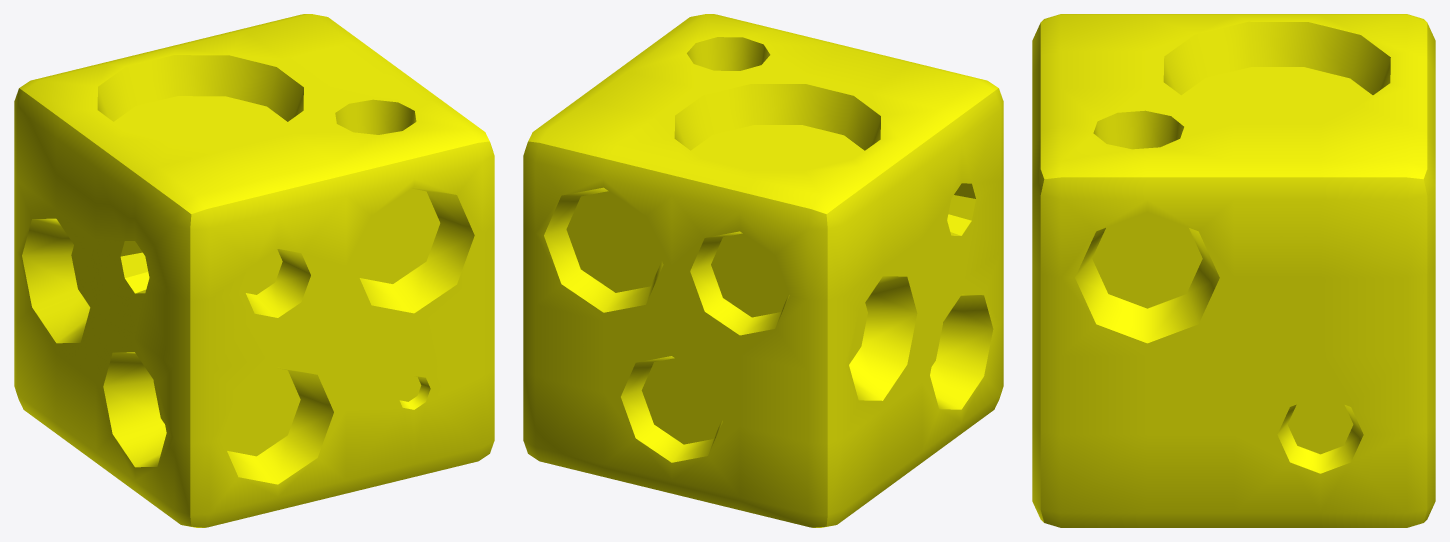
File: Block_Cheese.glb
3 views of the same model, side by side, from view 1: azimuth 30°, elevation 25°; view 2: azimuth 150°, elevation 25°; view 3: azimuth 270°, elevation 25° (orthographic). The views are drawn at different scales.
Visible parts, largest first — view 1: Block_Cheese; view 2: Block_Cheese; view 3: Block_Cheese.
Part boxes in pixels (box(x1,y1,x2,y2)): Block_Cheese: box(14, 14, 494, 527); Block_Cheese: box(523, 14, 1003, 527); Block_Cheese: box(1032, 14, 1435, 527).
Size of the model in its own units: 1.87 by 1.87 by 1.87.
Materials: 1 (1 with a texture image).
